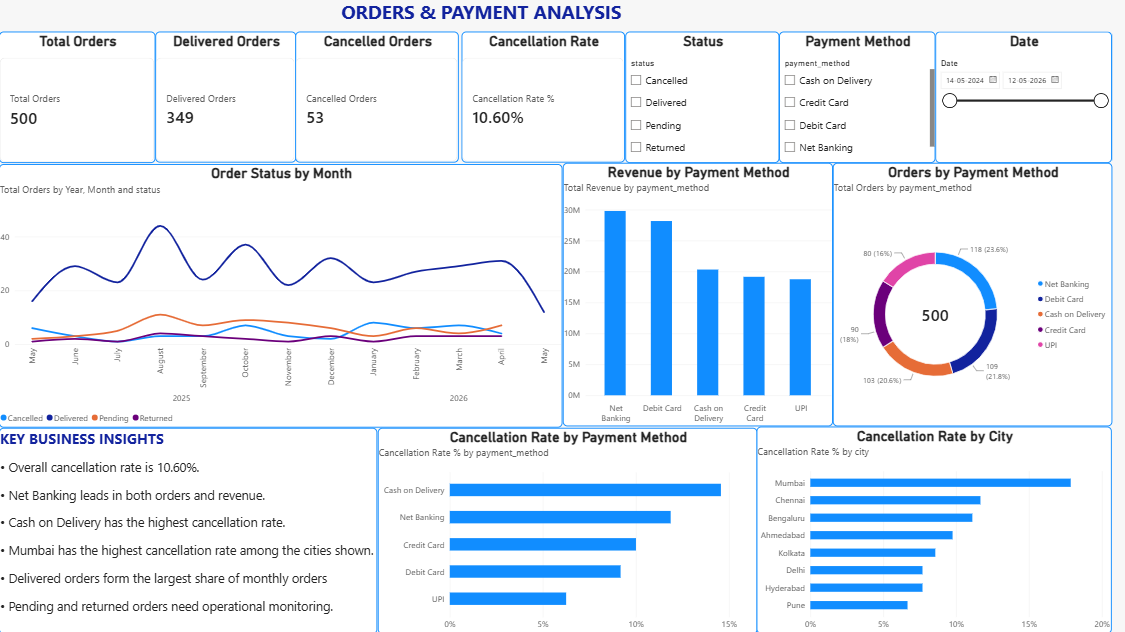

This screenshot's page, from the dashboard's own definition file:
{"tool":"powerbi","page":{"name":"Orders & Payment Analysis ","canvas":[1920,1080],"ordinal":8},"visuals":[{"type":"cardVisual","title":"Total Orders","fields":{"Data":["orders.Total Orders"]},"box":[0,54.3,266,224.4],"z":0},{"type":"cardVisual","title":"Delivered Orders","fields":{"Data":["orders.Delivered Orders"]},"box":[265.6,55.1,239.7,223.5],"z":1000},{"type":"cardVisual","title":"Cancelled Orders","fields":{"Data":["orders.Cancelled Orders"]},"box":[505.3,55.1,278.5,223.5],"z":2000},{"type":"cardVisual","title":"Cancellation Rate","fields":{"Data":["orders.Cancellation Rate %"]},"box":[787,55.1,278.5,223.5],"z":3000},{"type":"donutChart","title":"Orders by Payment Method","fields":{"Category":["orders.payment_method"],"Y":["orders.Total Orders"]},"box":[1418.8,278.7,475.9,448.8],"z":4000},{"type":"clusteredColumnChart","title":"Revenue by Payment Method","fields":{"Category":["orders.payment_method"],"Y":["order_items.Total Revenue"]},"box":[959.1,278.7,459.7,448.8],"z":5000},{"type":"clusteredBarChart","title":"Cancellation Rate by Payment Method","fields":{"Category":["orders.payment_method"],"Y":["orders.Cancellation Rate %"]},"box":[644.2,729.3,646,351.1],"z":5001},{"type":"lineChart","title":"Order Status by Month","fields":{"Category":["DateTable.Year","DateTable.Month"],"Series":["orders.status"],"Y":["orders.Total Orders"]},"box":[0,280.5,959.1,448.8],"z":5002},{"type":"clusteredBarChart","title":"Cancellation Rate by City","fields":{"Category":["customers.city"],"Y":["orders.Cancellation Rate %"]},"box":[1290.3,727.5,604.4,352.9],"z":5003},{"type":"slicer","title":"Date","fields":{"Values":["DateTable.Date"]},"box":[1594.3,54.3,300.4,224.4],"z":5004},{"type":"slicer","title":"Payment Method","fields":{"Values":["orders.payment_method"]},"box":[1328.3,54.3,266,224.4],"z":5005},{"type":"slicer","title":"Status","fields":{"Values":["orders.status"]},"box":[1065.9,54.3,262.4,224.4],"z":5006},{"type":"textbox","box":[579.8,0,527.9,55.1],"z":5007},{"type":"textbox","box":[0,729.3,644.2,351.1],"z":5008}]}

Visuals, with their boxes in screenshot pixels (x1, y1, x2, y2), scaled from the page's 1920x1080 canvas onto the 1125x632 screenshot:
"Total Orders" cardVisual: x1=0 y1=32 x2=156 y2=163
"Delivered Orders" cardVisual: x1=156 y1=32 x2=296 y2=163
"Cancelled Orders" cardVisual: x1=296 y1=32 x2=459 y2=163
"Cancellation Rate" cardVisual: x1=461 y1=32 x2=624 y2=163
"Orders by Payment Method" donutChart: x1=831 y1=163 x2=1110 y2=426
"Revenue by Payment Method" clusteredColumnChart: x1=562 y1=163 x2=831 y2=426
"Cancellation Rate by Payment Method" clusteredBarChart: x1=377 y1=427 x2=756 y2=631
"Order Status by Month" lineChart: x1=0 y1=164 x2=562 y2=427
"Cancellation Rate by City" clusteredBarChart: x1=756 y1=426 x2=1110 y2=631
"Date" slicer: x1=934 y1=32 x2=1110 y2=163
"Payment Method" slicer: x1=778 y1=32 x2=934 y2=163
"Status" slicer: x1=625 y1=32 x2=778 y2=163
textbox: x1=340 y1=0 x2=649 y2=32
textbox: x1=0 y1=427 x2=377 y2=631
